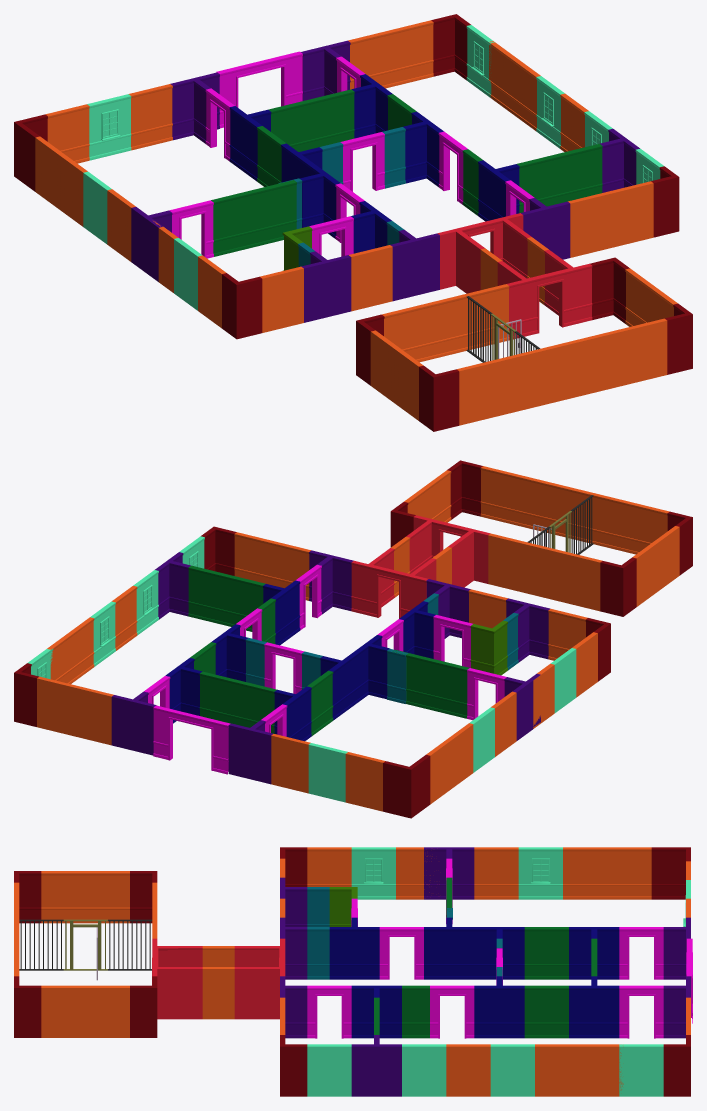
Rendered from Walls 1.fbx.
3 views of the same model, one above another, from view 1: azimuth 30°, elevation 25°; view 2: azimuth 150°, elevation 25°; view 3: azimuth 270°, elevation 25° (orthographic). The views are drawn at different scales.
Parts seen in each view (by area): view 1: BasementDoor, BasementDoor001, 1DoubleCorner, 1DoubleCorner002, 1WallBlank(2)011, 1WallBlank(2)036, 1WallBlank(2)001, 2WallBlank(2), 1WallWindow003, 1WallBlank(2)010, 1WallBlank(2)023, 1WallBlank(2)006 (+69 smaller); view 2: BasementDoor001, BasementDoor, 1Corner006, 2WallDoor008, 1DoubleCorner005, 1DoubleCorner006, 2WallBlank(2)003, 2WallBlank(2), 1WallBlank(2)011, 1WallBlank(2)032, 1WallBlank(2)035, 1WallBlank(2)036 (+67 smaller); view 3: BasementDoor001, BasementDoor, 2DoubleCorner004, 2DoubleCorner005, 2DoubleCorner, 2DoubleCorner001, 1DoubleCorner004, 2DoubleCorner002, 2DoubleCorner006, 2DoubleCorner003, 1DoubleCorner003, 2WallBlank(2)006 (+46 smaller).
Boxes of the visible parts, box(x1,y1,x2,y2) form: BasementDoor: box(497, 249, 592, 339); BasementDoor001: box(437, 213, 531, 293); 1DoubleCorner: box(390, 229, 439, 301); 1DoubleCorner002: box(301, 251, 351, 322); 1WallBlank(2)011: box(623, 318, 667, 384); 1WallBlank(2)036: box(389, 20, 433, 86); 1WallBlank(2)001: box(424, 294, 467, 360); 2WallBlank(2): box(211, 190, 255, 256); 1WallWindow003: box(87, 94, 131, 160); 1WallBlank(2)010: box(581, 328, 625, 395); 1WallBlank(2)023: box(609, 181, 653, 247); 1WallBlank(2)006: box(498, 349, 542, 415); BasementDoor001: box(351, 548, 436, 618); BasementDoor: box(406, 515, 490, 587); 1Corner006: box(383, 754, 430, 818); 2WallDoor008: box(153, 705, 230, 774); 1DoubleCorner005: box(228, 720, 273, 784); 1DoubleCorner006: box(111, 691, 156, 755); 2WallBlank(2)003: box(188, 565, 227, 625); 2WallBlank(2): box(429, 659, 469, 718); 1WallBlank(2)011: box(480, 466, 520, 525); 1WallBlank(2)032: box(271, 734, 310, 793); 1WallBlank(2)035: box(74, 686, 113, 745); 1WallBlank(2)036: box(37, 676, 76, 736); BasementDoor001: box(234, 938, 285, 1019); BasementDoor: box(152, 938, 202, 1019); 2DoubleCorner004: box(474, 976, 524, 1038); 2DoubleCorner005: box(569, 976, 619, 1038); 2DoubleCorner: box(329, 917, 379, 979); 2DoubleCorner001: box(424, 917, 474, 979); 1DoubleCorner004: box(351, 1035, 401, 1096); 2DoubleCorner002: box(351, 985, 401, 1038); 2DoubleCorner006: box(569, 927, 619, 979); 2DoubleCorner003: box(474, 927, 524, 979); 1DoubleCorner003: box(424, 847, 474, 899); 2WallBlank(2)006: box(524, 985, 568, 1038).
Bounding box in the file's own units: 2128 × 250 × 3064.
